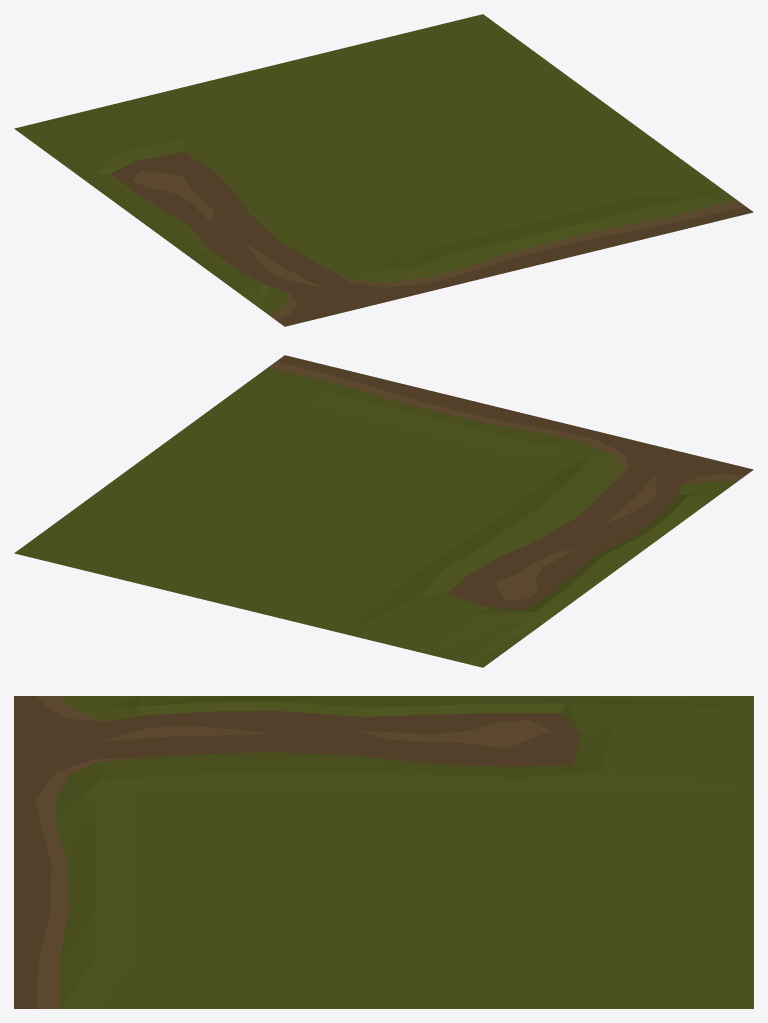
The model's file is SM_parcel_02.glb.
3 views of the same model, one above another, from view 1: azimuth 30°, elevation 25°; view 2: azimuth 150°, elevation 25°; view 3: azimuth 270°, elevation 25° (orthographic). The views are drawn at different scales.
Visible parts, largest first — view 1: SM_parcel_02; view 2: SM_parcel_02; view 3: SM_parcel_02.
Part boxes in pixels (left/top/right/bottom): SM_parcel_02: left=14, top=14, right=753, bottom=326; SM_parcel_02: left=14, top=355, right=753, bottom=667; SM_parcel_02: left=14, top=696, right=753, bottom=1008.
Size of the model in its own units: 32 by 0.15 by 32.
Materials: 1 (1 with a texture image).
